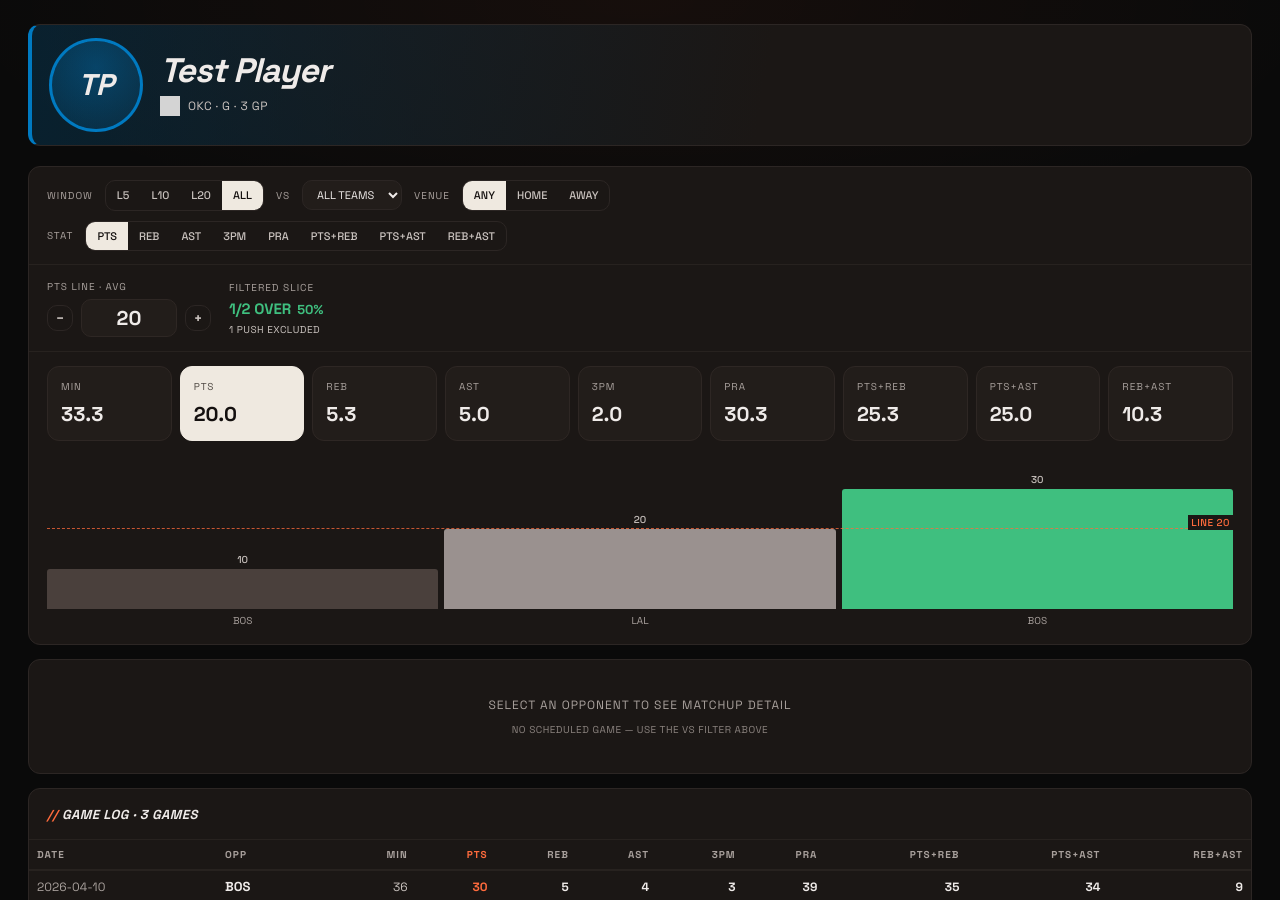
Test: PlayerView › recomputes the hit rate when the line moves
The image size is (1280, 900).
Check: the text "1/2 OVER" is shown, box [229,298,291,318]
Click the button named "Raise line".
click(198, 318)  # box [185,305,211,331]
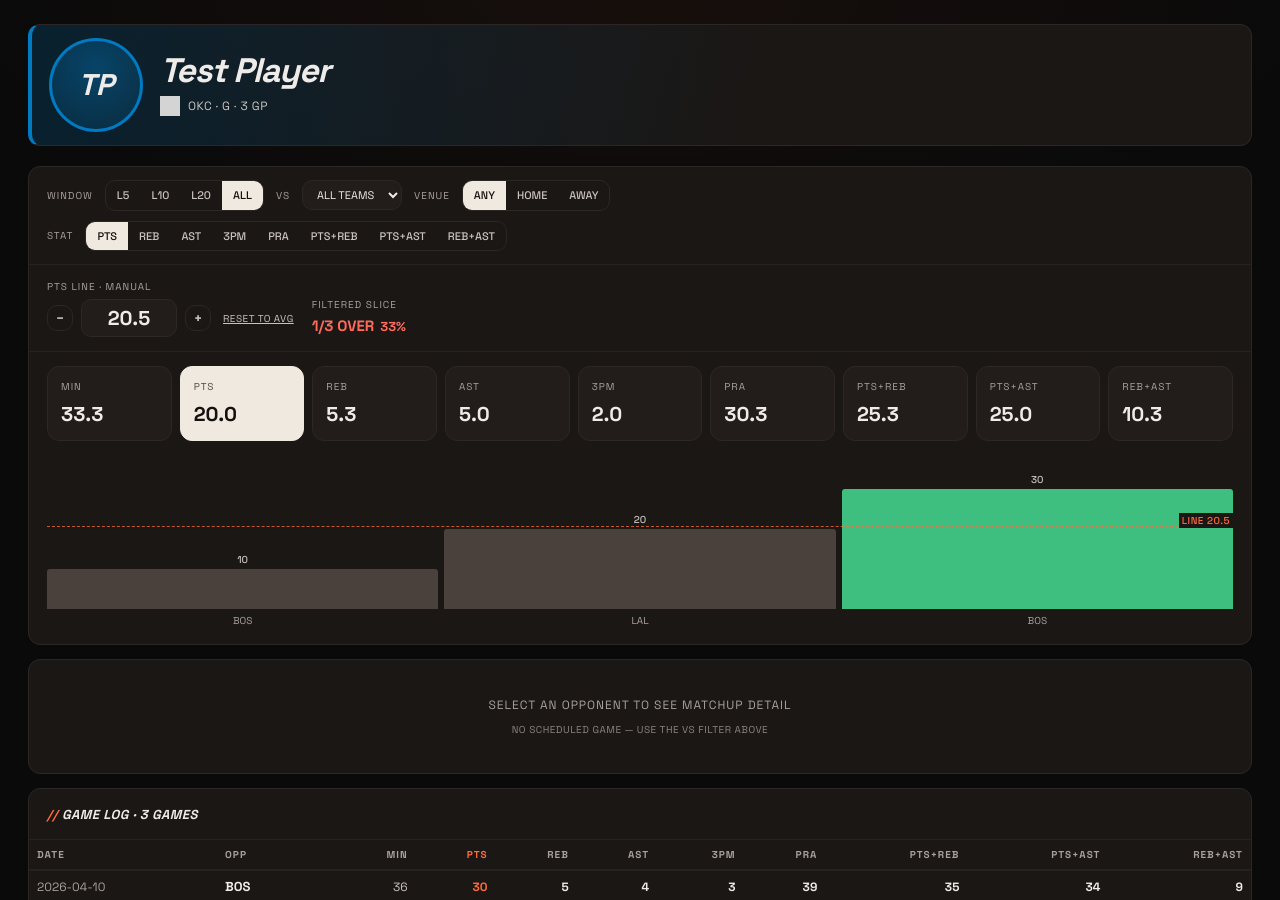
Check: the text "1/3 OVER" is shown, box [312,316,374,334]
